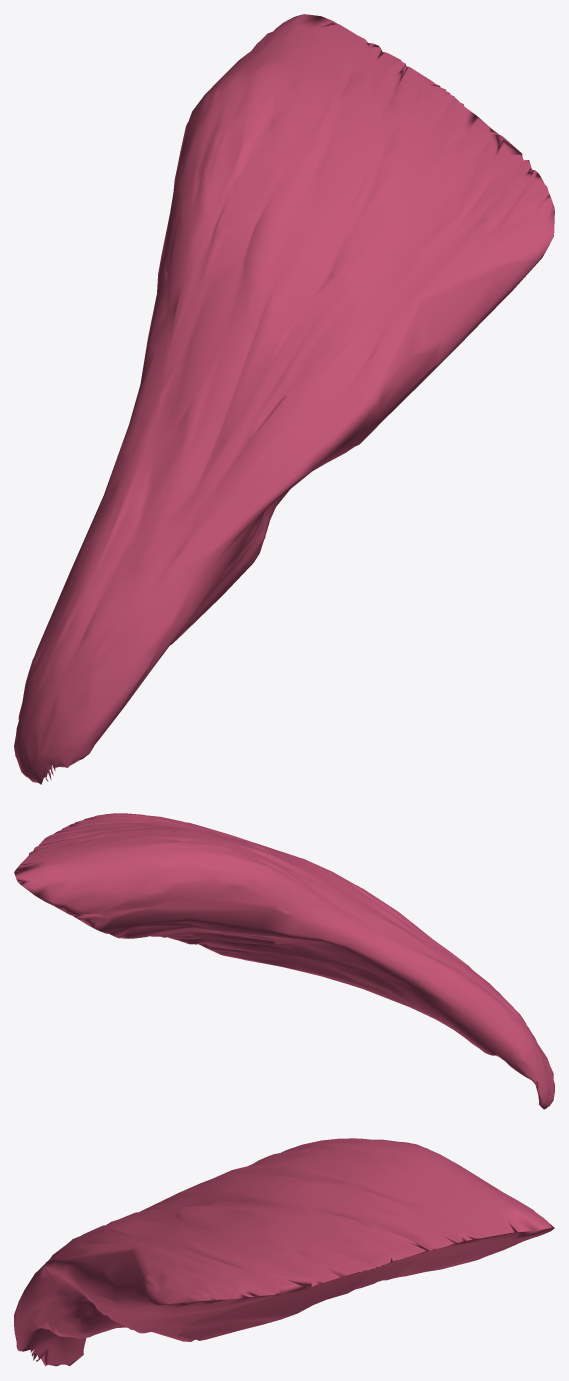
3 renders of one model, top to bottom at view 1: azimuth 30°, elevation 25°; view 2: azimuth 150°, elevation 25°; view 3: azimuth 270°, elevation 25°, orthographic. The views are drawn at different scales.
Parts seen in each view (by area): view 1: 右侧冈下肌; view 2: 右侧冈下肌; view 3: 右侧冈下肌.
Part boxes in pixels (x1=…): 右侧冈下肌: x1=14, y1=14, x2=554, y2=784; 右侧冈下肌: x1=14, y1=813, x2=554, y2=1109; 右侧冈下肌: x1=14, y1=1138, x2=554, y2=1366.
Size of the model in its own units: 0.1953 by 0.1353 by 0.1673.
